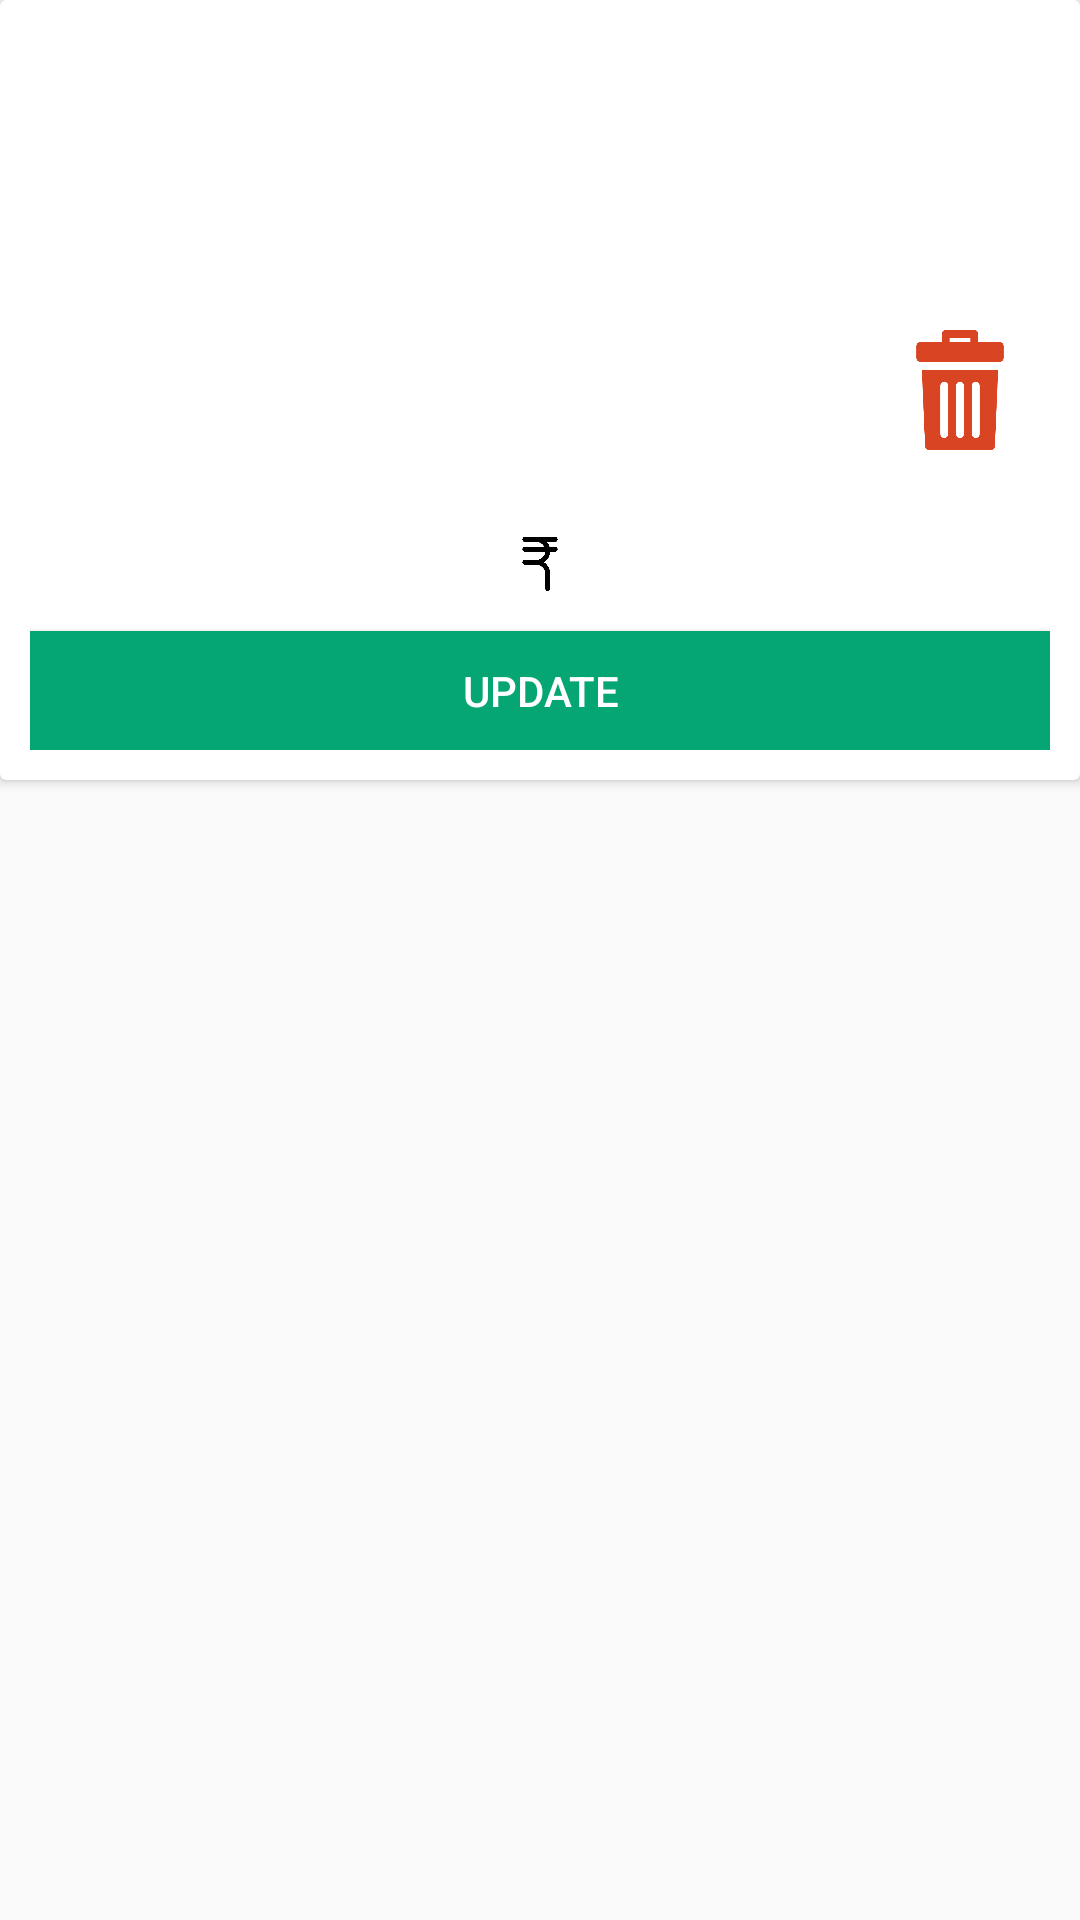

Icons on this 1080w x 1920h Android screen, each with its box as (x1, y1, x2, y2):
remove: (916, 330, 1004, 450)
rupee: (522, 537, 558, 591)
